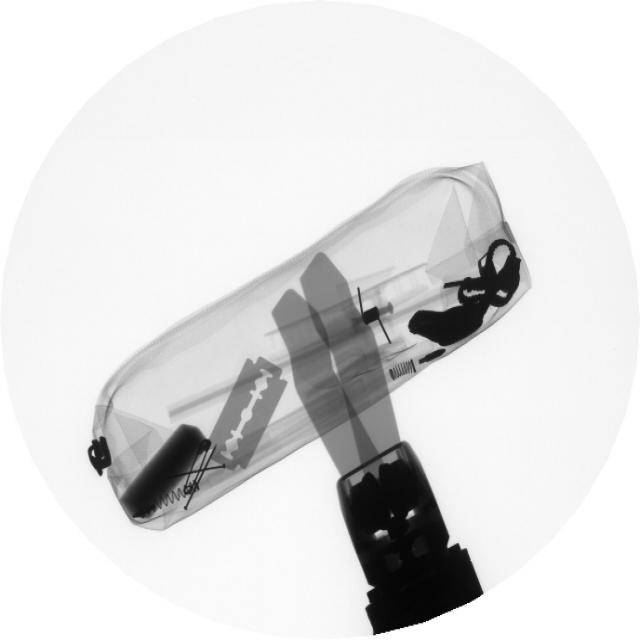BLADE: (208, 349, 288, 481)
